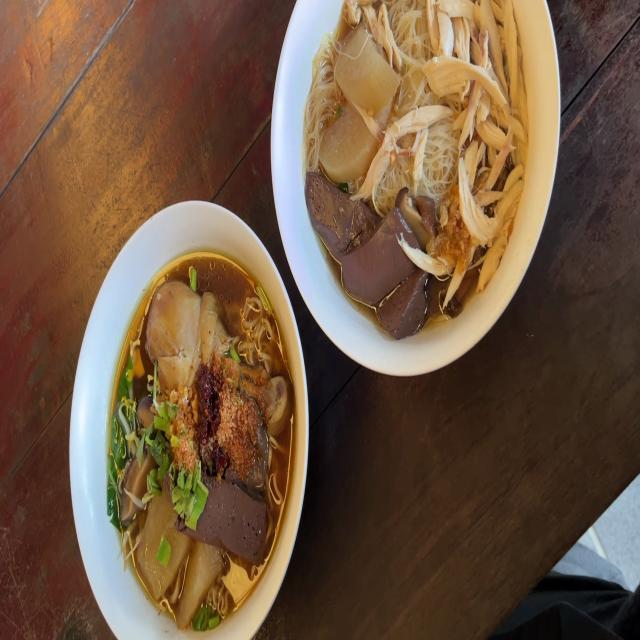noodle: (301, 0, 541, 332), (105, 253, 297, 615)
